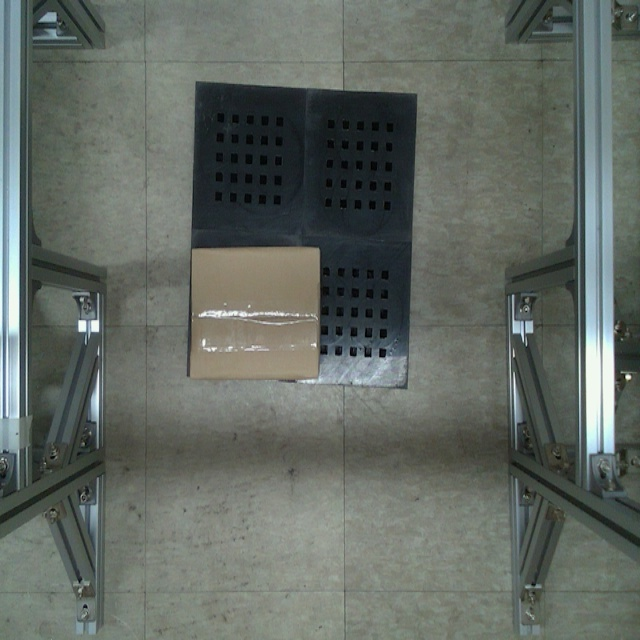box: (188, 244, 321, 381)
pallet: (177, 75, 424, 393)
